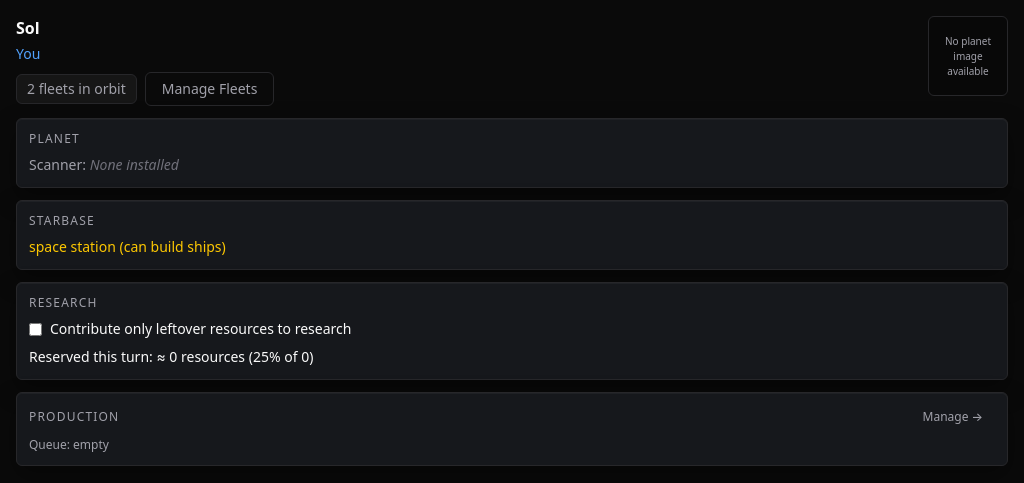
it: PlanetDetail › opens the fleets-in-orbit list from the header when several fleets are present
Click the button "2 fleets in orbit" at [76, 89], box [16,74,137,104]
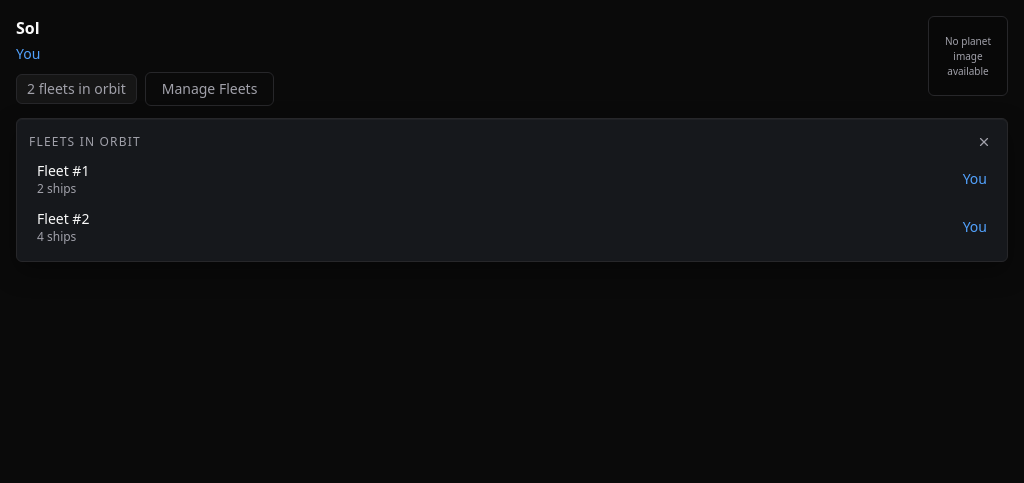
Result: the text "Fleets in Orbit" is shown at [29,134,141,150]
Result: the text "Fleet #1" is shown at [37,161,89,181]
Result: the text "Fleet #2" is shown at [37,209,89,229]
